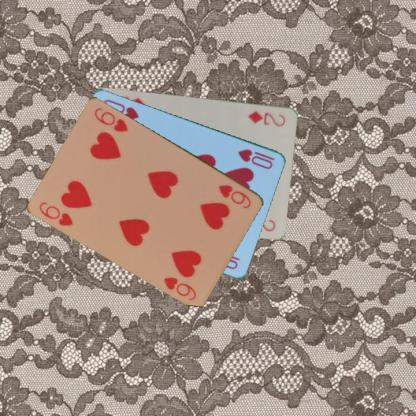10h: (236, 145, 276, 170)
2d: (245, 108, 286, 128)
6h: (36, 198, 76, 228), (216, 181, 253, 210)
